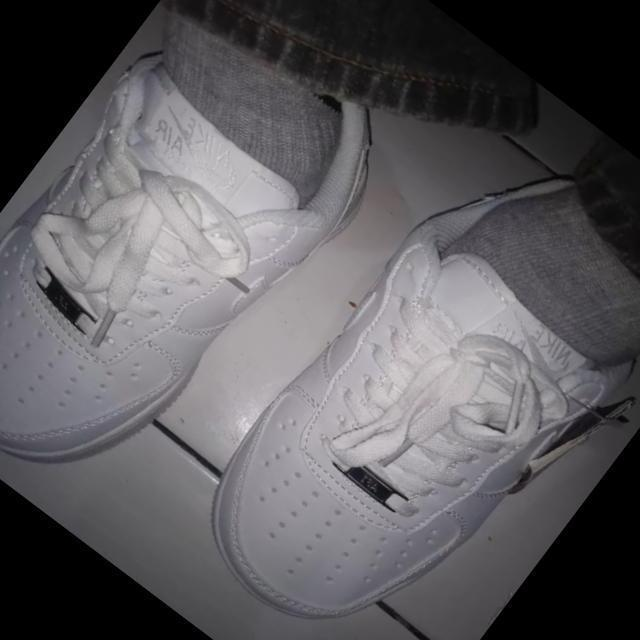nike fake air force: (165, 102, 640, 640), (0, 0, 414, 535)
